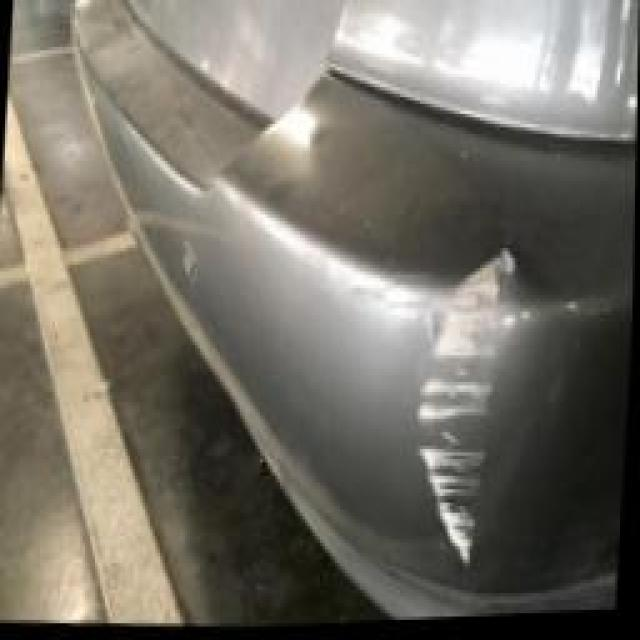Bumper: (268, 121, 588, 619)
